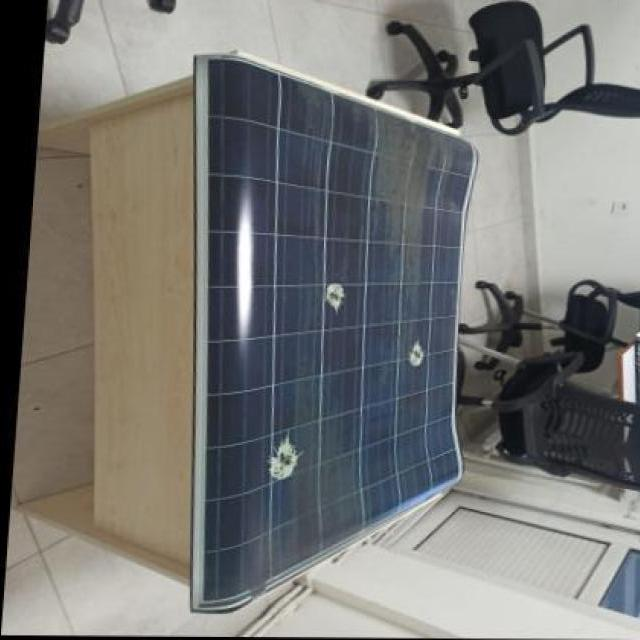soiled: (184, 46, 466, 599)
